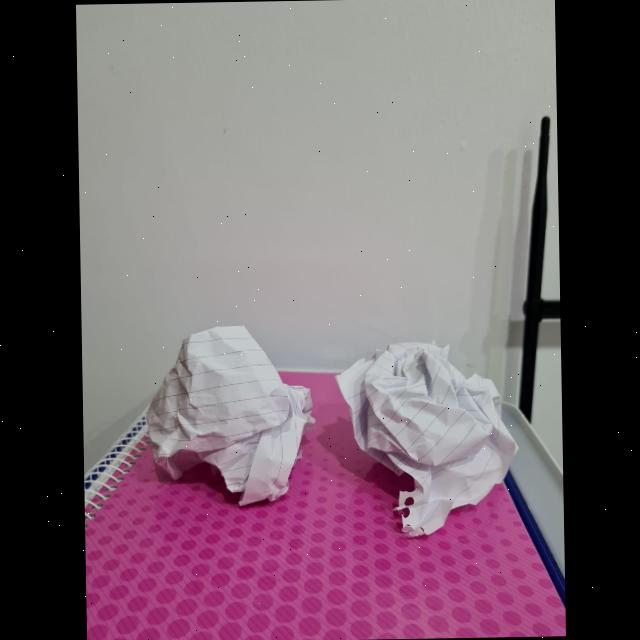trash: (342, 325, 520, 515), (149, 323, 314, 512)
